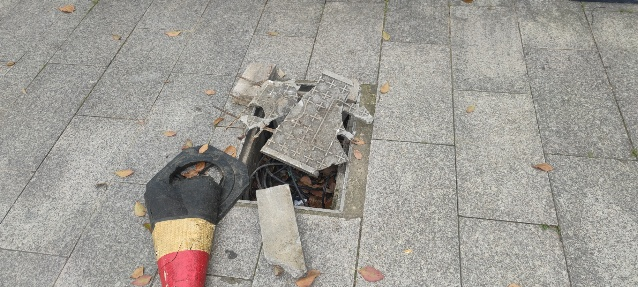broke: (229, 60, 359, 213)
